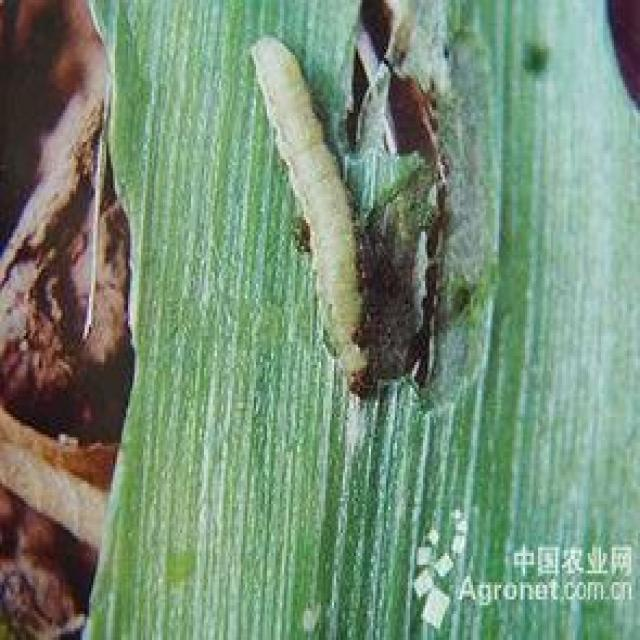BeetArmyWorm-Larva-: (234, 23, 390, 399)
